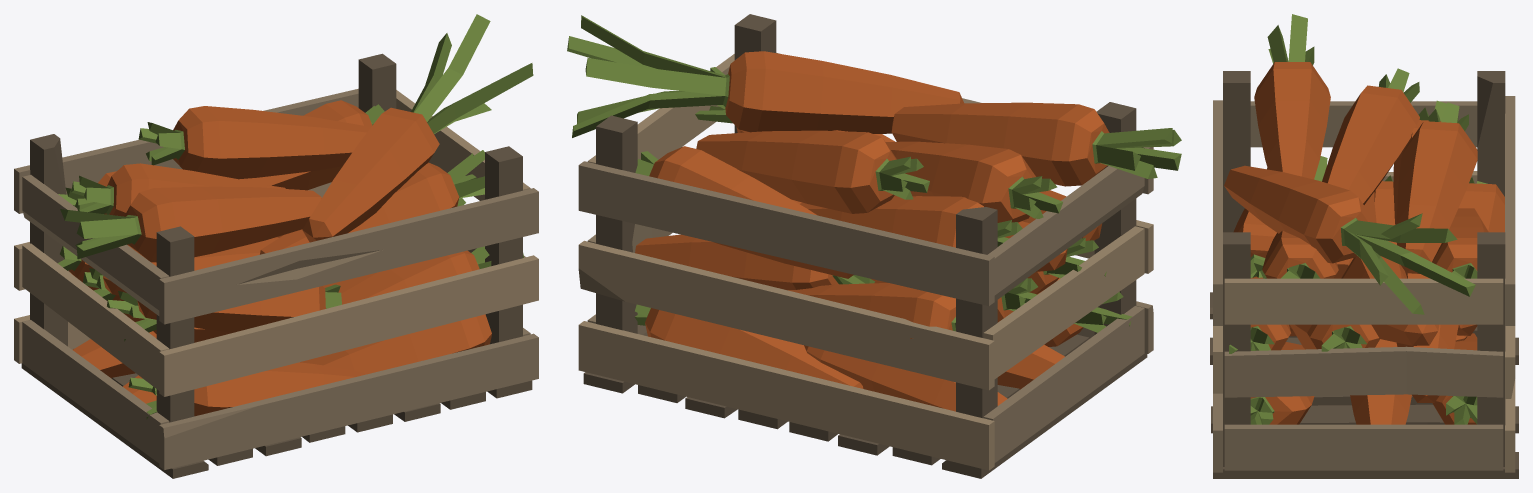
The model's file is SM_Props_Farm_Crate_Filled_Carrot.fbx.
The picture shows the model from 3 angles, left to right: view 1: azimuth 30°, elevation 25°; view 2: azimuth 150°, elevation 25°; view 3: azimuth 270°, elevation 25°; orthographic projection. The views are drawn at different scales.
Visible parts, largest first — view 1: SM_Props_Farm_Crate_Filled_Carrot; view 2: SM_Props_Farm_Crate_Filled_Carrot; view 3: SM_Props_Farm_Crate_Filled_Carrot.
Boxes of the visible parts, x1,y1,x2,y2 form: SM_Props_Farm_Crate_Filled_Carrot: [14, 14, 538, 478]; SM_Props_Farm_Crate_Filled_Carrot: [567, 14, 1181, 478]; SM_Props_Farm_Crate_Filled_Carrot: [1210, 14, 1518, 478].
Size of the model in its own units: 140 by 75.36 by 72.8.
